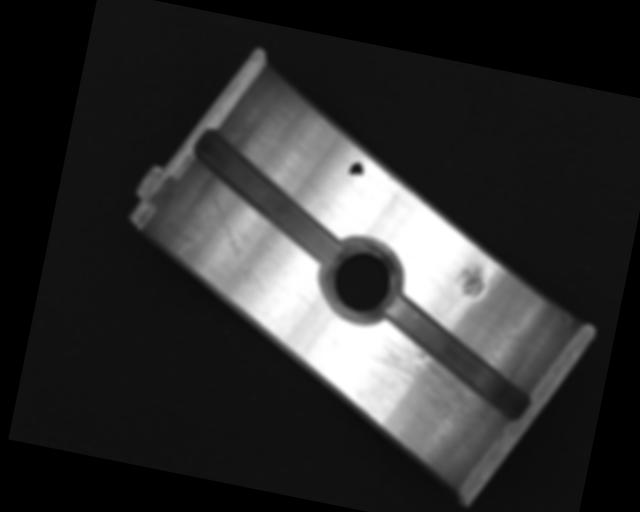blot: (347, 159, 365, 179)
bruise: (453, 263, 488, 300)
gap: (175, 127, 357, 266), (369, 296, 545, 424)
hole: (315, 231, 407, 330)
nick: (192, 191, 281, 293)
scratch: (332, 328, 510, 465)
